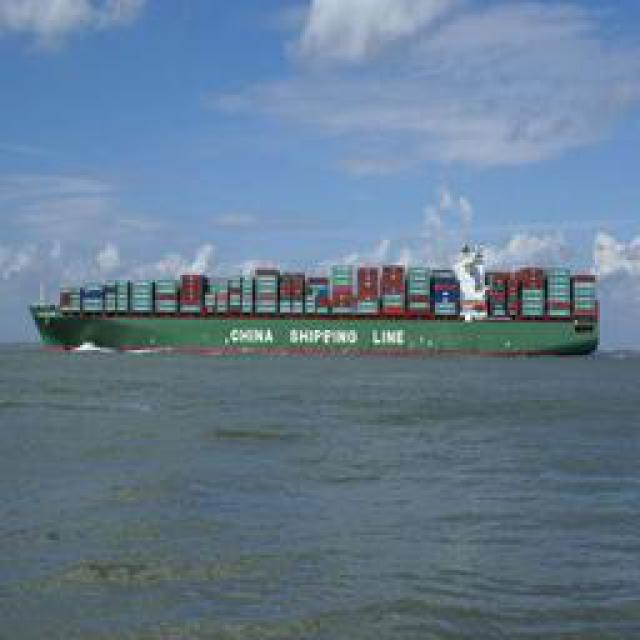Ship: (25, 251, 608, 359)
